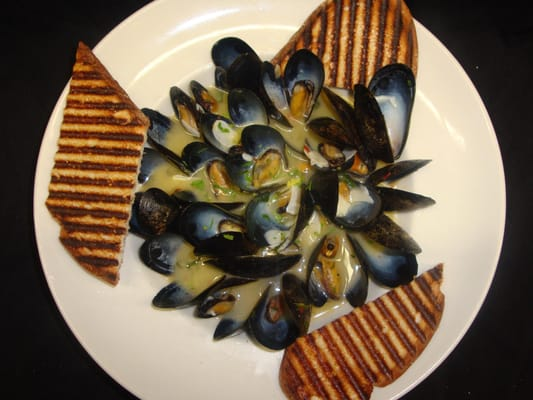sushi: (44, 40, 149, 286), (278, 263, 446, 400)
